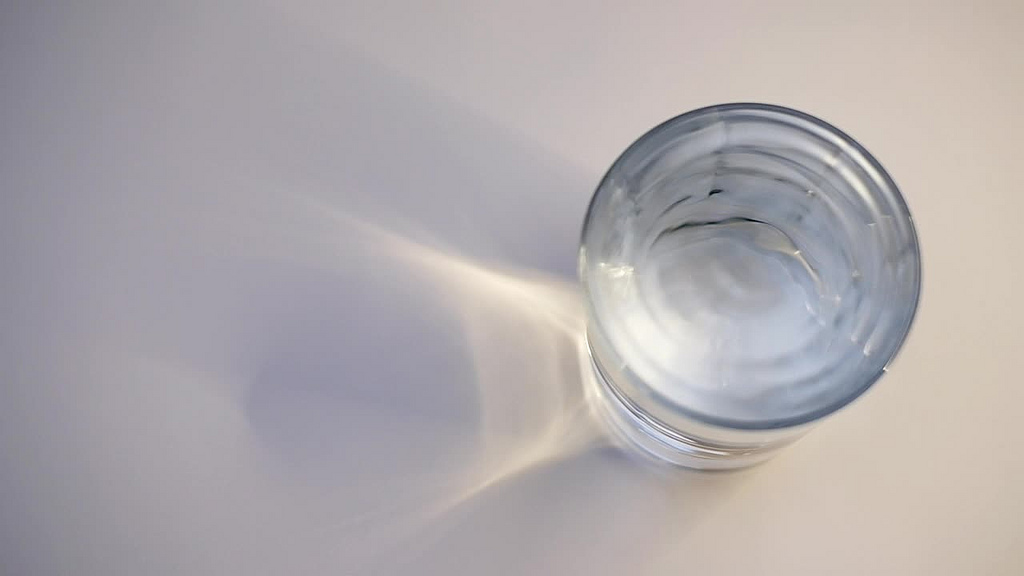glass of water: (566, 90, 928, 493)
